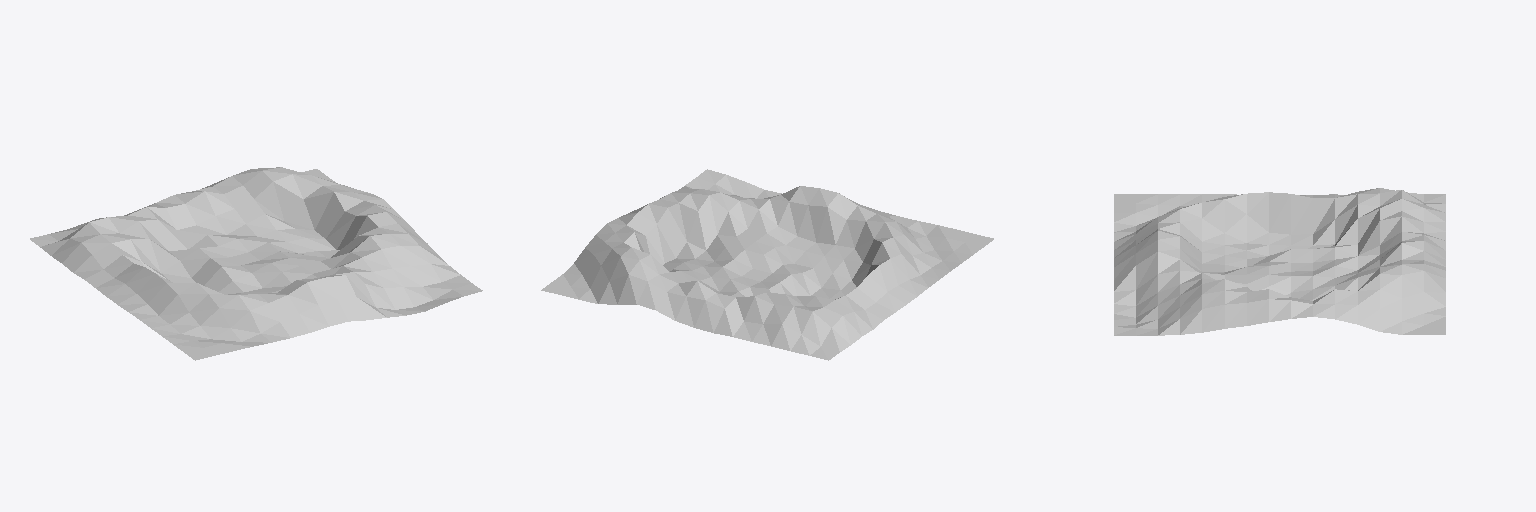
Rendered from landscape - Copy.obj.
3 renders of one model, left to right at view 1: azimuth 30°, elevation 25°; view 2: azimuth 150°, elevation 25°; view 3: azimuth 270°, elevation 25°, orthographic.
Parts seen in each view (by area): view 1: LandscapeComponent_0; view 2: LandscapeComponent_0; view 3: LandscapeComponent_0.
Boxes of the visible parts, <box> form: LandscapeComponent_0: <box>30,167,482,360</box>; LandscapeComponent_0: <box>541,169,993,360</box>; LandscapeComponent_0: <box>1114,188,1445,335</box>.
Size of the model in its own units: 1500 by 242 by 1500.